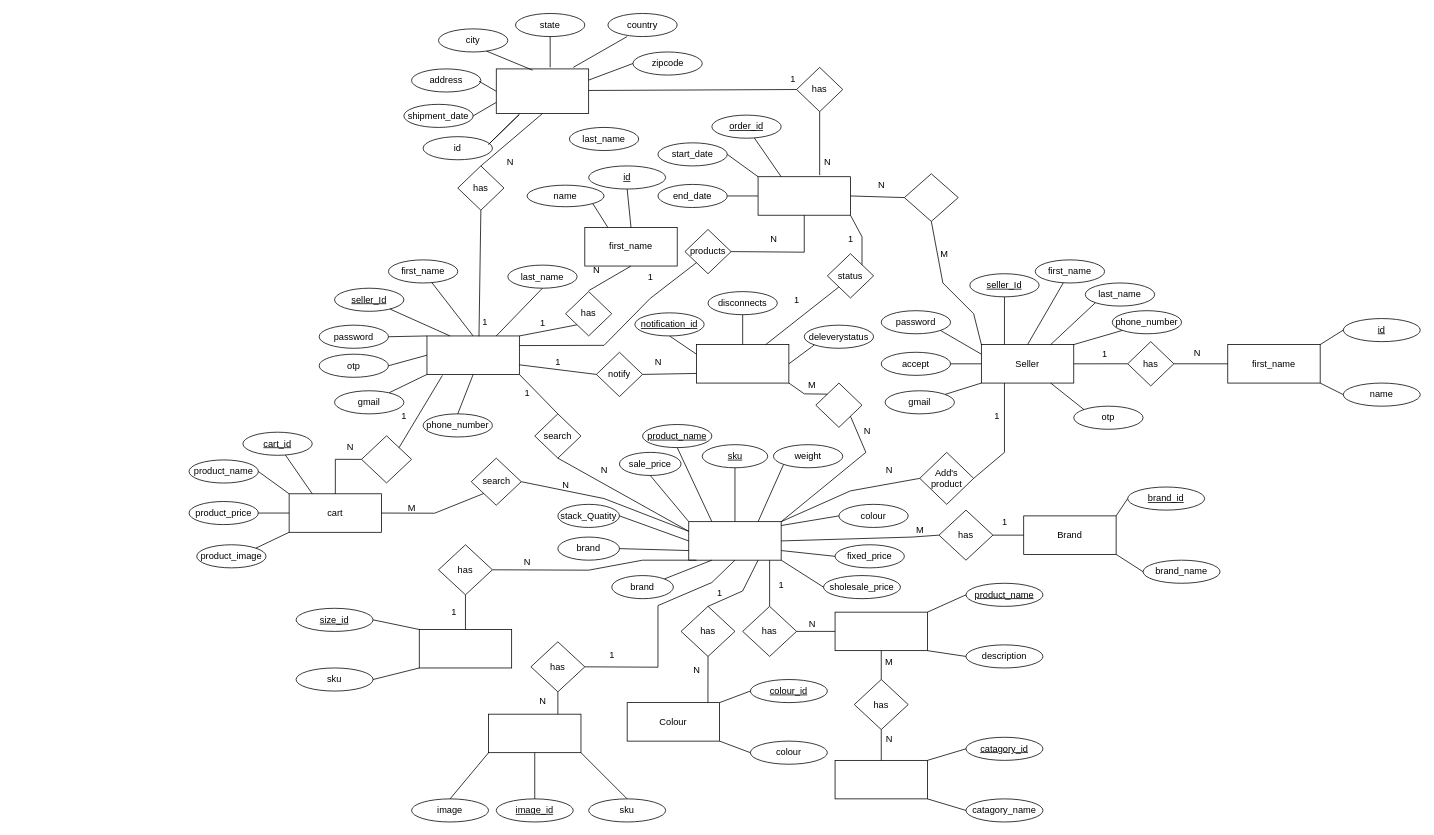
This 1434x835 diagram has some shape labels left out. The shapes that lost their labels are listed below. From the top down, each one's box as (x1, y1, x2, y2) in pixels, then its label:
(495, 68, 589, 114): Shipment
(757, 176, 850, 215): order
(904, 173, 958, 221): approval
(426, 335, 519, 374): Customer
(696, 344, 789, 383): Notification
(361, 435, 412, 483): add product
(688, 521, 781, 560): Inventory
(418, 629, 512, 668): Size
(834, 611, 927, 651): Product
(488, 713, 581, 753): Media
(834, 760, 927, 799): Catagory
